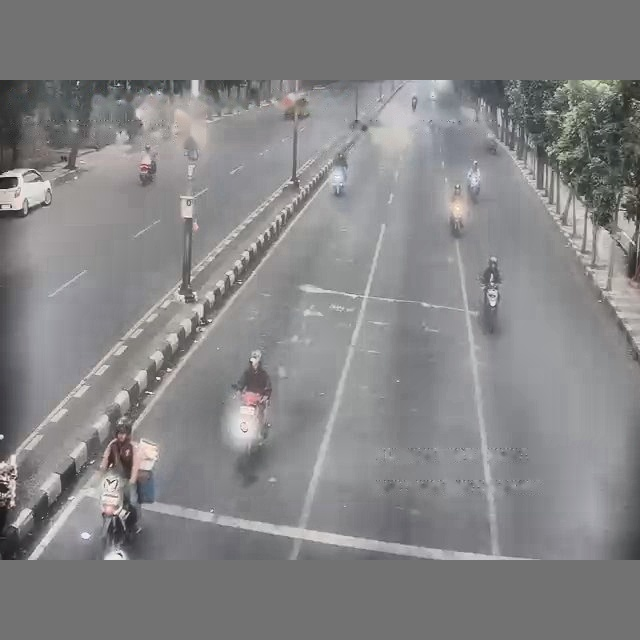Mobil: (0, 168, 52, 216), (284, 94, 309, 118)
Motor: (100, 470, 134, 556), (232, 391, 266, 455), (0, 455, 16, 534), (483, 282, 499, 333), (449, 201, 464, 238), (332, 167, 346, 196), (139, 162, 155, 185), (467, 174, 479, 202), (411, 96, 416, 111)
